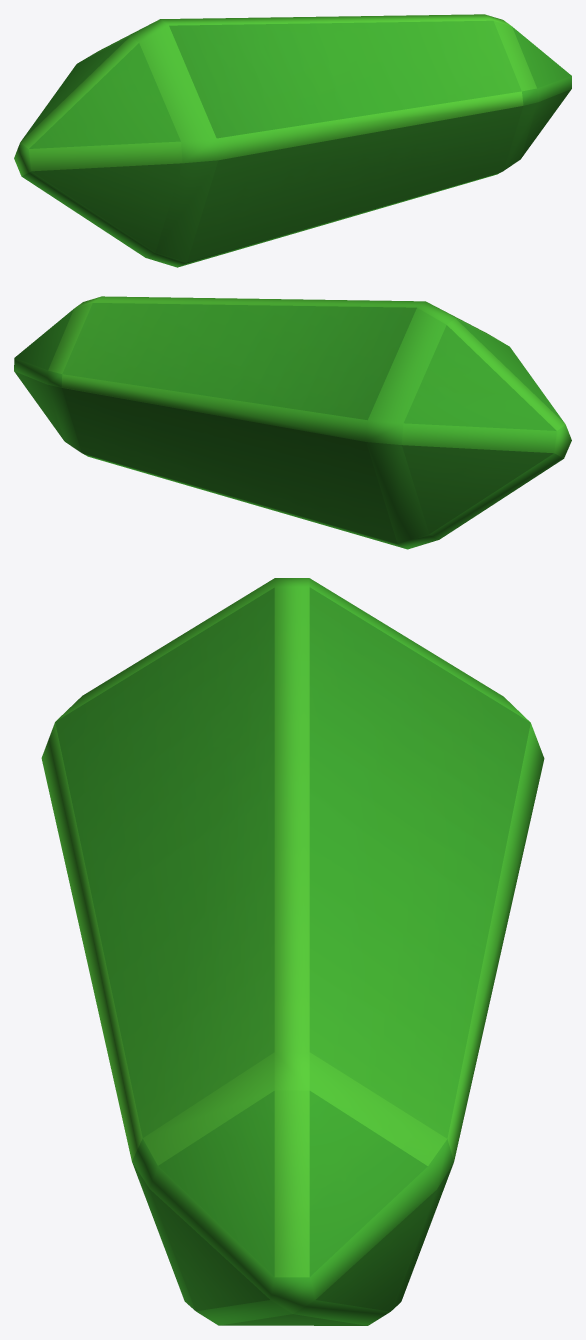
Rendered from christal_emerald_2.fbx.
The picture shows the model from 3 angles, top to bottom: view 1: azimuth 30°, elevation 25°; view 2: azimuth 150°, elevation 25°; view 3: azimuth 270°, elevation 25°; orthographic projection. The views are drawn at different scales.
Parts seen in each view (by area): view 1: christal_emerald_2; view 2: christal_emerald_2; view 3: christal_emerald_2.
Part boxes in pixels (x1,y1,x2,y2): christal_emerald_2: (14, 14, 571, 267); christal_emerald_2: (14, 296, 571, 549); christal_emerald_2: (41, 578, 544, 1325).
Bounding box in the file's own units: 86.4 × 32.67 × 34.49.
1 material, 1 textured.
